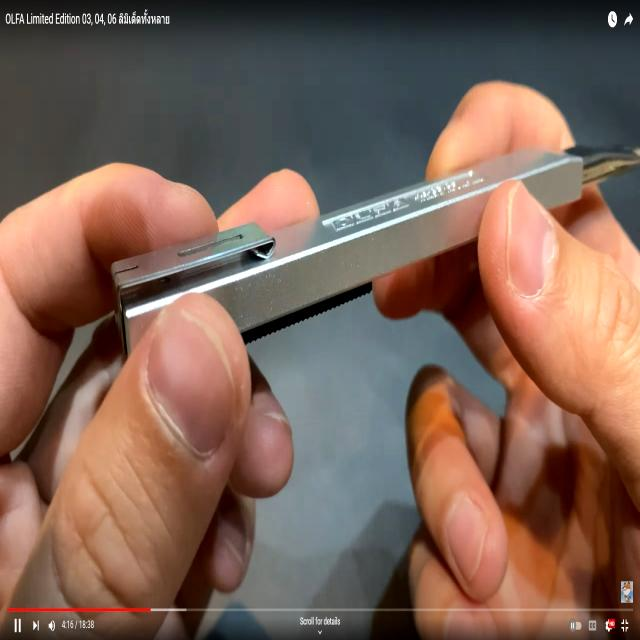cutter: (29, 103, 640, 504)
